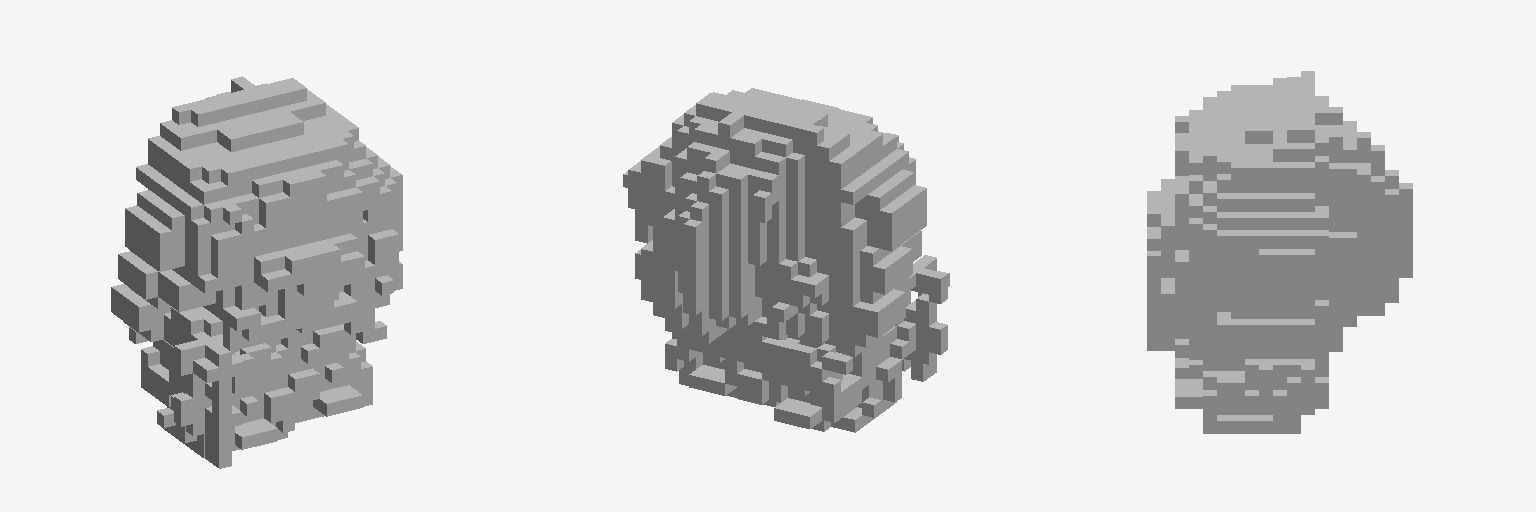
The model's file is Icon_002_03.obj.
The picture shows the model from 3 angles: view 1: azimuth 30°, elevation 25°; view 2: azimuth 150°, elevation 25°; view 3: azimuth 270°, elevation 25°; orthographic projection.
Visible parts, largest first — view 1: Icon-002-02; view 2: Icon-002-02; view 3: Icon-002-02.
Part boxes in pixels (bbox=[...]): Icon-002-02: bbox=[111, 76, 402, 468]; Icon-002-02: bbox=[623, 88, 949, 432]; Icon-002-02: bbox=[1147, 71, 1412, 433].
Size of the model in its own units: 2.1 by 2.4 by 1.9.